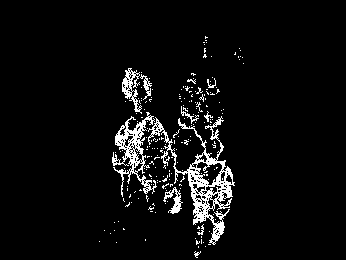person: (189, 137, 235, 260), (170, 115, 205, 214), (139, 116, 172, 210), (111, 115, 141, 207), (178, 73, 204, 128), (122, 68, 152, 112), (204, 76, 223, 139)
